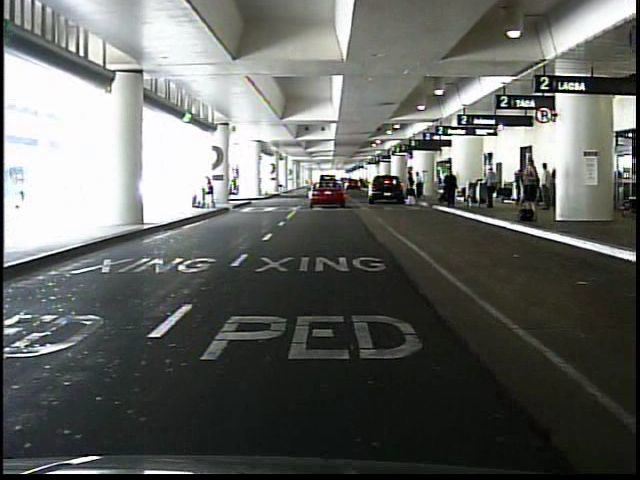person: (520, 155, 541, 211), (484, 164, 499, 211), (539, 162, 553, 212), (201, 173, 217, 211), (444, 169, 459, 209), (440, 166, 452, 204), (405, 170, 418, 205), (414, 170, 424, 199)
